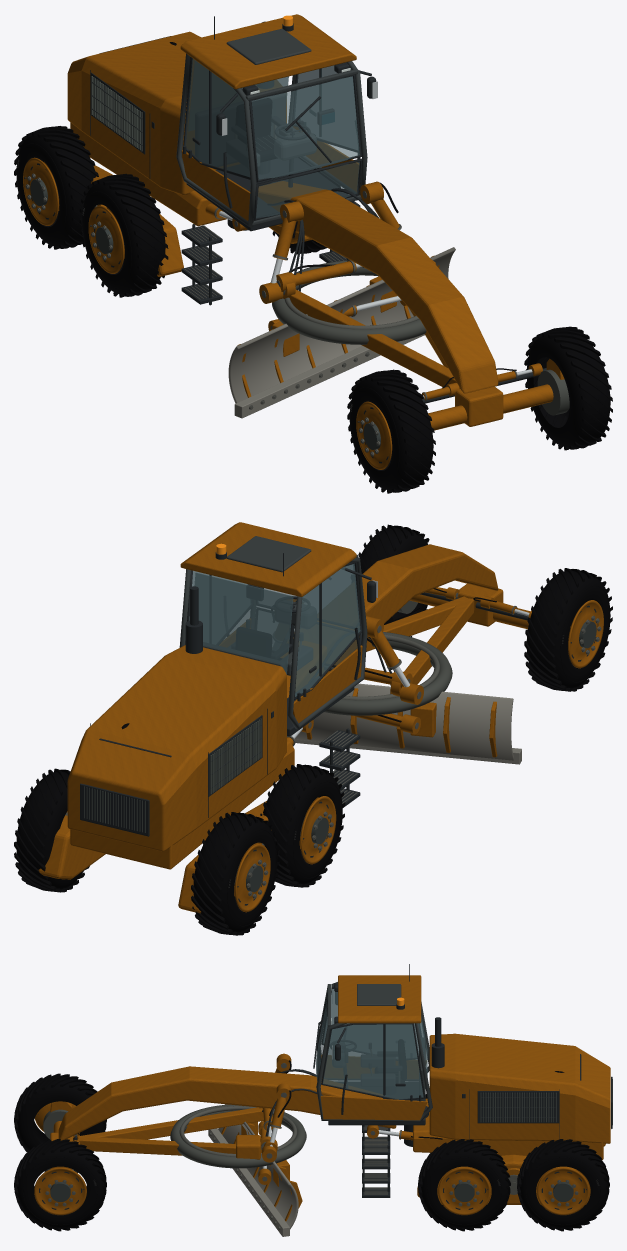
The model's file is grader.glb.
The picture shows the model from 3 angles, top to bottom: view 1: azimuth 30°, elevation 25°; view 2: azimuth 150°, elevation 25°; view 3: azimuth 270°, elevation 25°; orthographic projection. The views are drawn at different scales.
Parts seen in each view (by area): view 1: chassis, wheels_-1, cab_glass, engine_cover, moldboard, cab_roof, wheels_1, operator, cab_frame, circle, hydraulics; view 2: engine_cover, wheels_-1, chassis, cab_glass, moldboard, cab_roof, wheels_1, circle, cab_frame, operator, hydraulics; view 3: wheels_1, engine_cover, chassis, cab_glass, circle, cab_frame, cab_roof, wheels_-1, moldboard, operator, hydraulics.
Boxes of the visible parts, x1,y1,x2,y2 form: chassis: (43,116,564,432); wheels_-1: (14,126,435,493); cab_glass: (183,57,362,220); engine_cover: (67,21,286,195); moldboard: (228,247,467,418); cab_roof: (180,14,377,135); wheels_1: (272,157,612,450); operator: (186,93,354,231); cab_frame: (176,53,367,227); circle: (272,259,460,388); hydraulics: (259,181,406,330); engine_cover: (67,586,286,851); wheels_-1: (191,568,612,935); chassis: (38,544,570,913); cab_glass: (185,562,362,699); moldboard: (294,683,521,764); cab_roof: (180,522,377,602); wheels_1: (14,524,429,892); circle: (324,596,474,715); cab_frame: (179,555,367,729); operator: (203,584,354,736); hydraulics: (272,599,423,734); wheels_1: (14,1139,609,1231); engine_cover: (429,1017,612,1143); chassis: (50,1066,605,1204); cab_glass: (313,987,427,1100); circle: (77,1104,306,1168); cab_frame: (316,982,432,1122); cab_roof: (331,964,421,1060); wheels_-1: (14,1073,427,1152); moldboard: (208,1104,302,1236); operator: (328,1038,425,1125); hydraulics: (258,1053,323,1184).
Size of the model in its own units: 3.67 by 3.65 by 9.09.
Materials: 18 (3 with a texture image).
